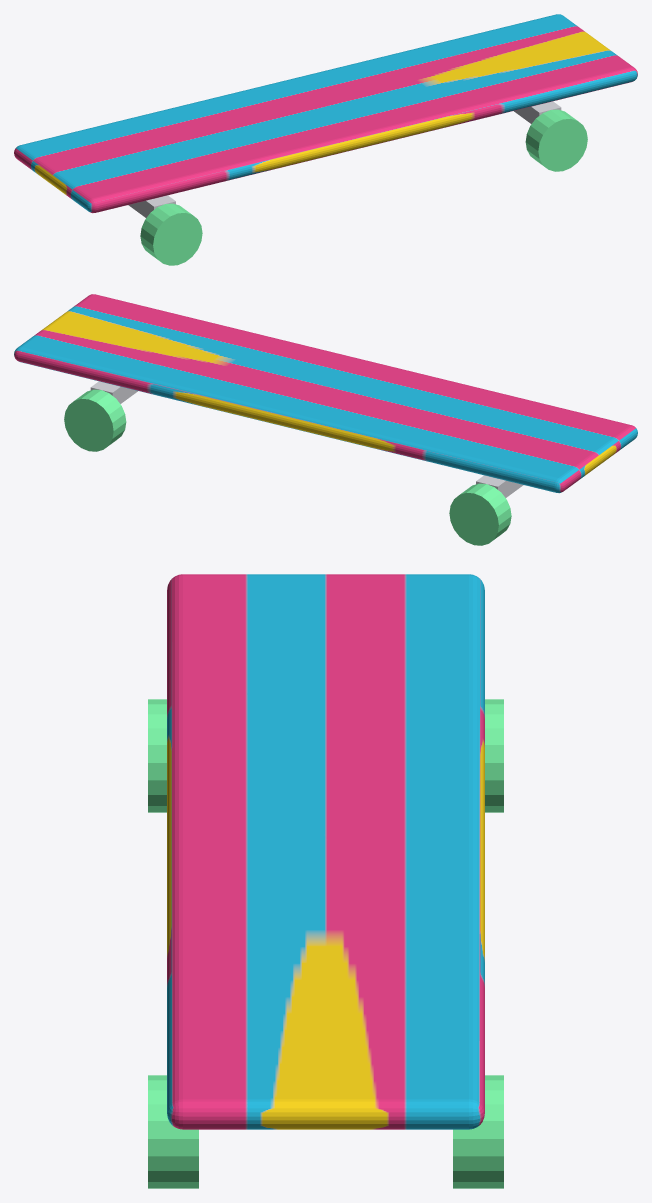
Rendered from board.glb.
3 views of the same model, one above another, from view 1: azimuth 30°, elevation 25°; view 2: azimuth 150°, elevation 25°; view 3: azimuth 270°, elevation 25° (orthographic). The views are drawn at different scales.
Visible parts, largest first — view 1: Longboard; view 2: Longboard; view 3: Longboard.
Boxes of the visible parts, x1,y1,x2,y2 form: Longboard: [14, 14, 637, 265]; Longboard: [14, 294, 637, 545]; Longboard: [148, 574, 503, 1188].
Size of the model in its own units: 2 by 0.275 by 0.56.
Materials: 3 (1 with a texture image).
